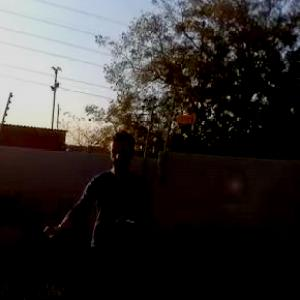follow: (36, 120, 155, 299)
